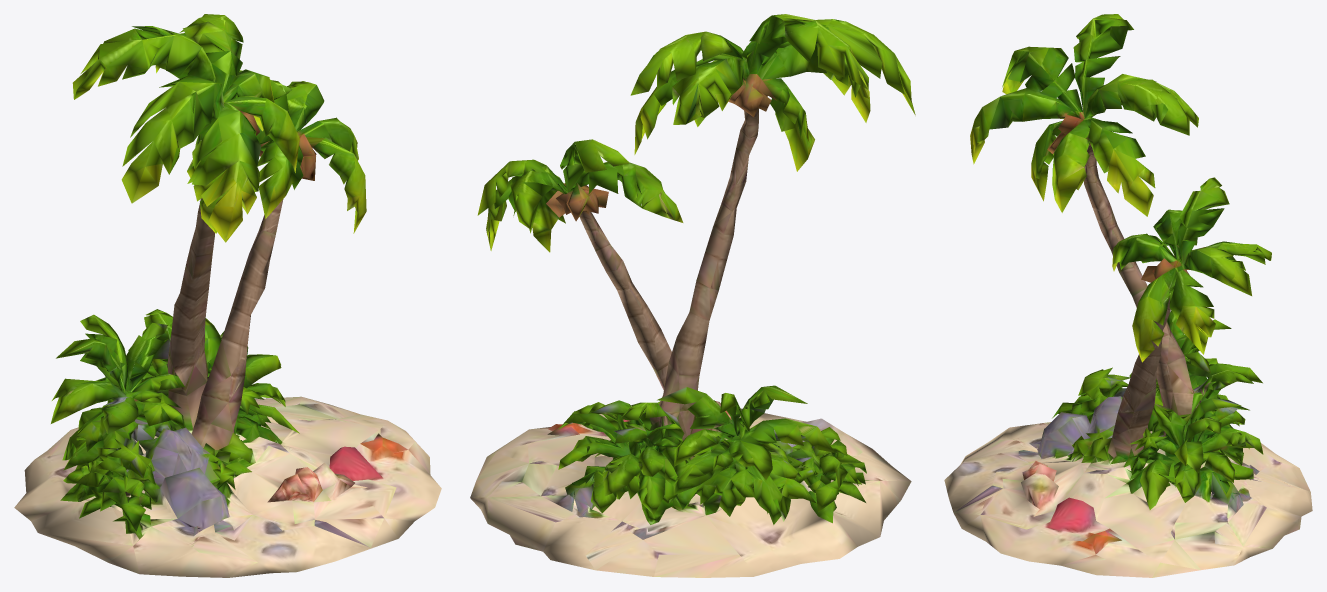
Rendered from palm_atoll.glb.
3 views of the same model, side by side, from view 1: azimuth 30°, elevation 25°; view 2: azimuth 150°, elevation 25°; view 3: azimuth 270°, elevation 25° (orthographic). The views are drawn at different scales.
Visible parts, largest first — view 1: Model; view 2: Model; view 3: Model.
Part boxes in pixels (x1,y1,x2,y2): Model: (14,14,441,577); Model: (470,14,915,577); Model: (944,14,1312,577).
Bounding box in the file's own units: 24.48 × 30 × 23.12.
1 material, 1 textured.
